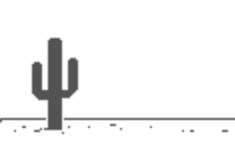cactus: (28, 34, 82, 134)
